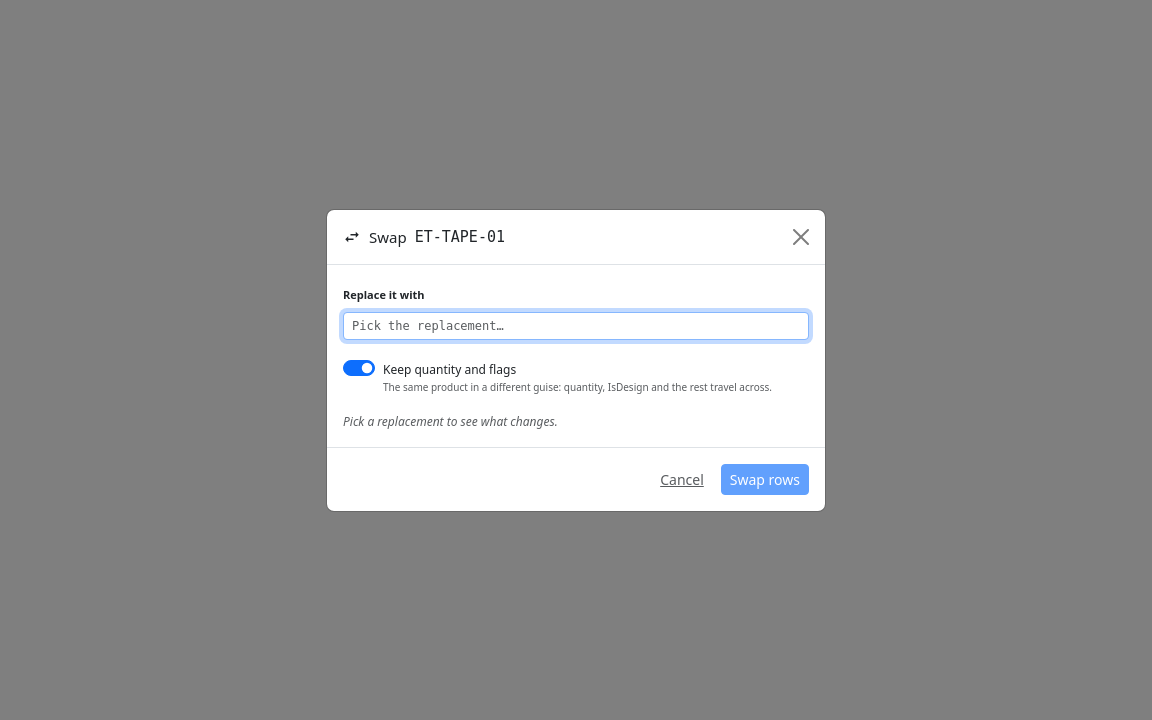
Test: the preview tells the truth before anything is written › swapping a ref for itself offers nothing to do
Type "ET-TAPE-01" into the field with placeholder "Pick the replacement…" at (576, 326), box [343, 312, 809, 340]
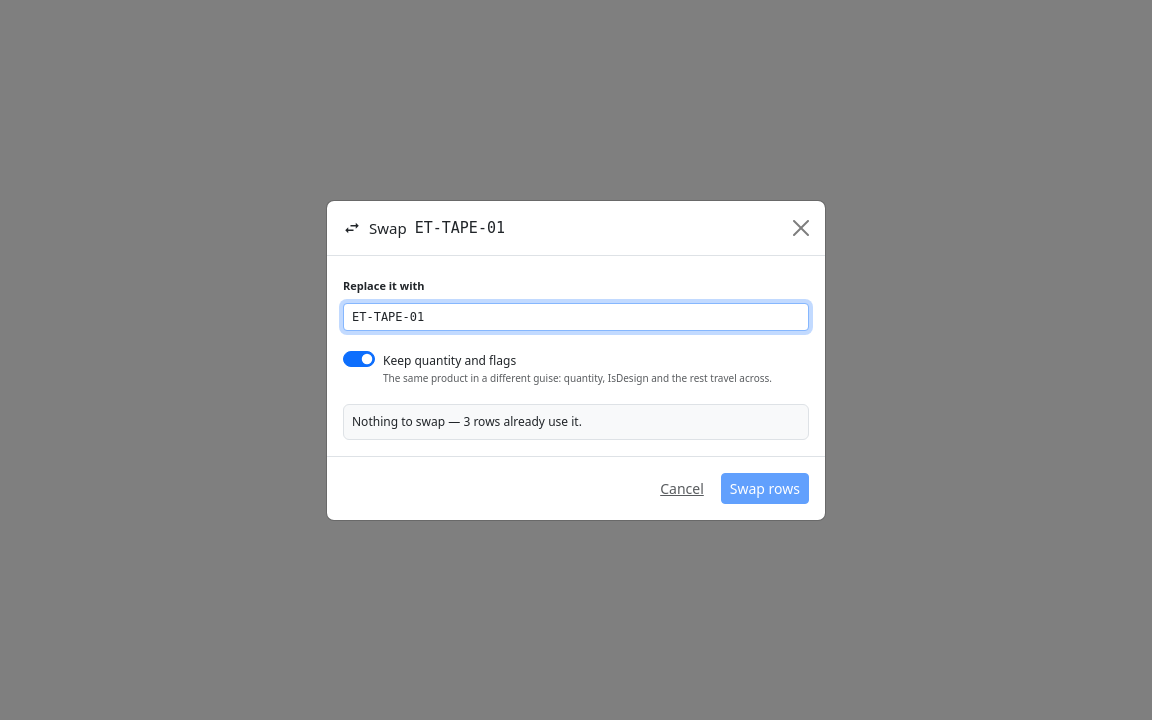
Expected: the text "Nothing to swap — 3 rows already use it." is shown, [343, 404, 809, 440]
